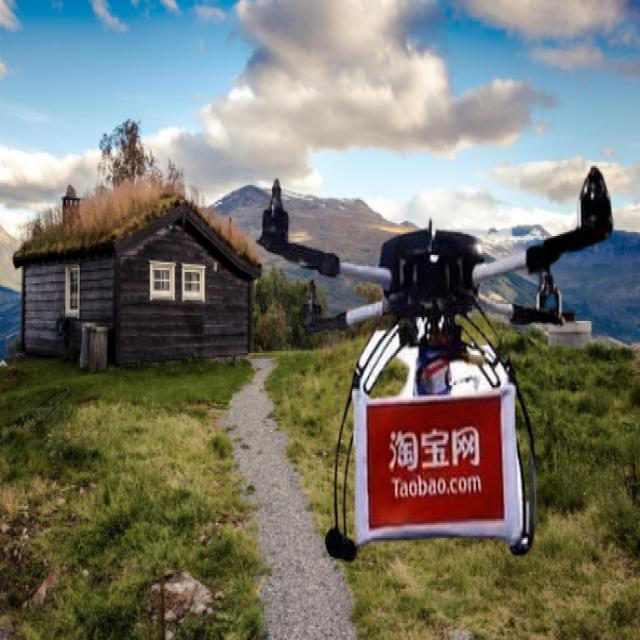drones: (251, 142, 620, 574)
